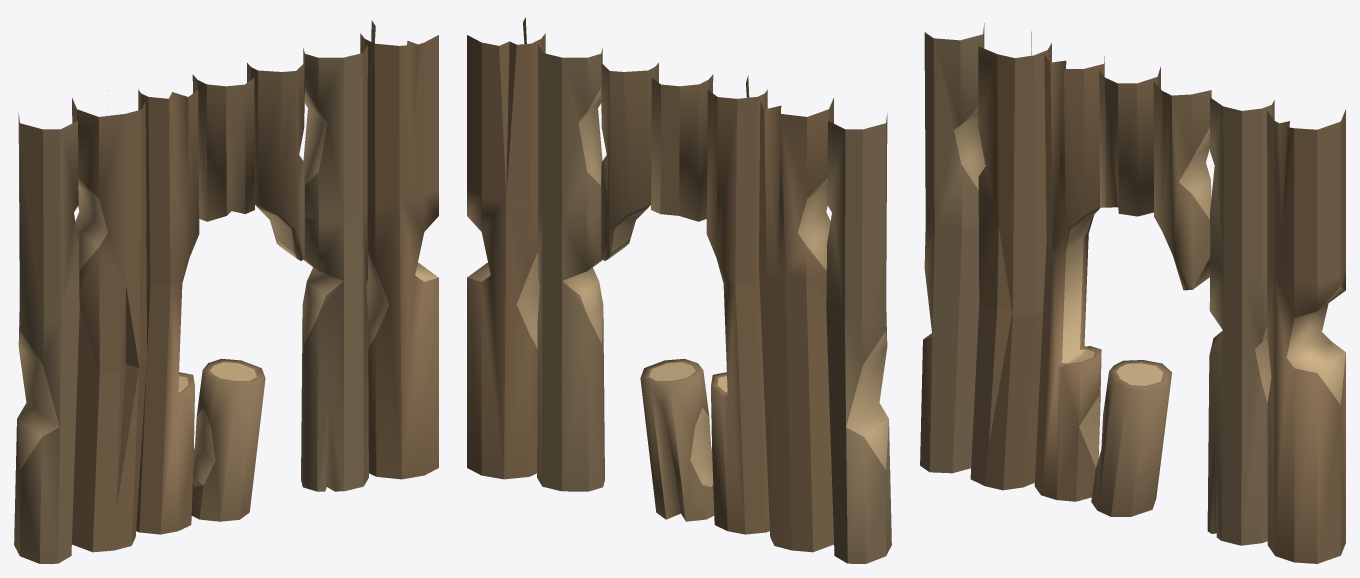
Rendered from rpgpp_av_wall_04_3x3_window_02a.gltf.
3 renders of one model, left to right at view 1: azimuth 30°, elevation 25°; view 2: azimuth 150°, elevation 25°; view 3: azimuth 330°, elevation 25°, orthographic.
Parts seen in each view (by area): view 1: rpgpp_av_wall_04_3x3_window_02a; view 2: rpgpp_av_wall_04_3x3_window_02a; view 3: rpgpp_av_wall_04_3x3_window_02a.
Boxes of the visible parts, left/top/right/bottom form: rpgpp_av_wall_04_3x3_window_02a: left=14, top=20, right=438, bottom=563; rpgpp_av_wall_04_3x3_window_02a: left=467, top=17, right=891, bottom=563; rpgpp_av_wall_04_3x3_window_02a: left=920, top=23, right=1345, bottom=563.
Size of the model in its own units: 0.03 by 0.03 by 0.00471.
Materials: 1 (1 with a texture image).
